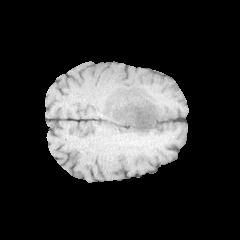glioma: (100, 85, 172, 136)
